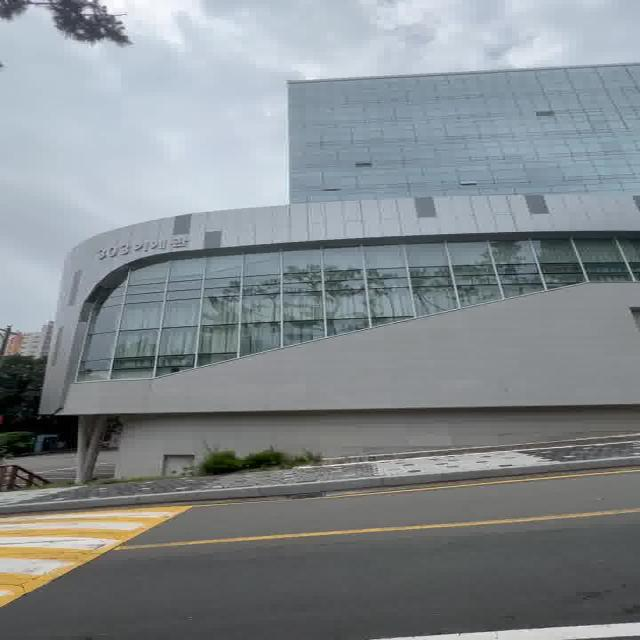building: (53, 54, 640, 405)
